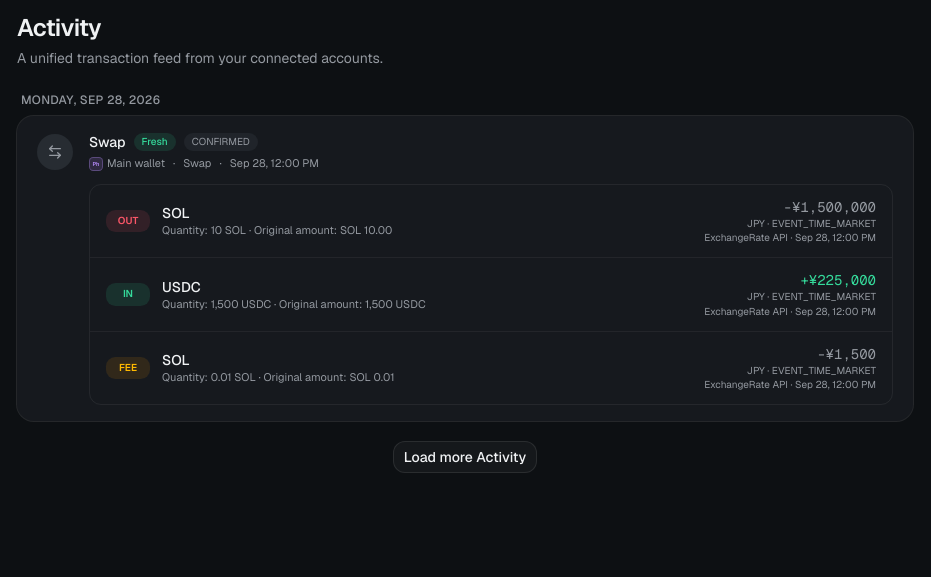
Scenario: ActivityFeed › keeps loaded pages visible and retries a failed older-page request
Expected: the heading "Swap" is shown, [89, 132, 126, 152]
Step 1. Click the button "Load more Activity" → x=465, y=457, box [393, 441, 537, 473]
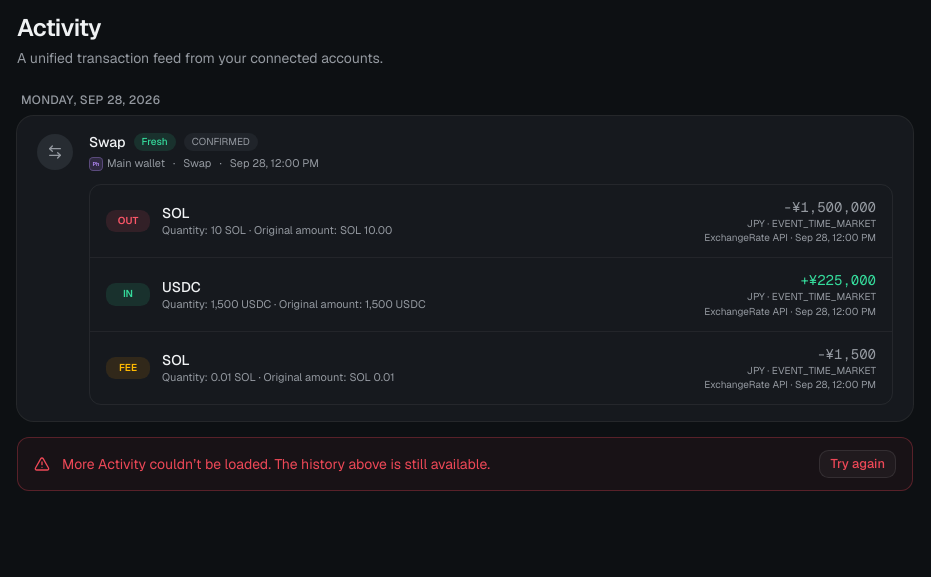
Expected: the heading "Swap" is shown, [89, 132, 126, 152]
Expected: the message shows "More Activity couldn’t be loaded", [62, 455, 490, 473]
Step 2. Click the button "Try again" → x=858, y=464, box [820, 450, 896, 478]
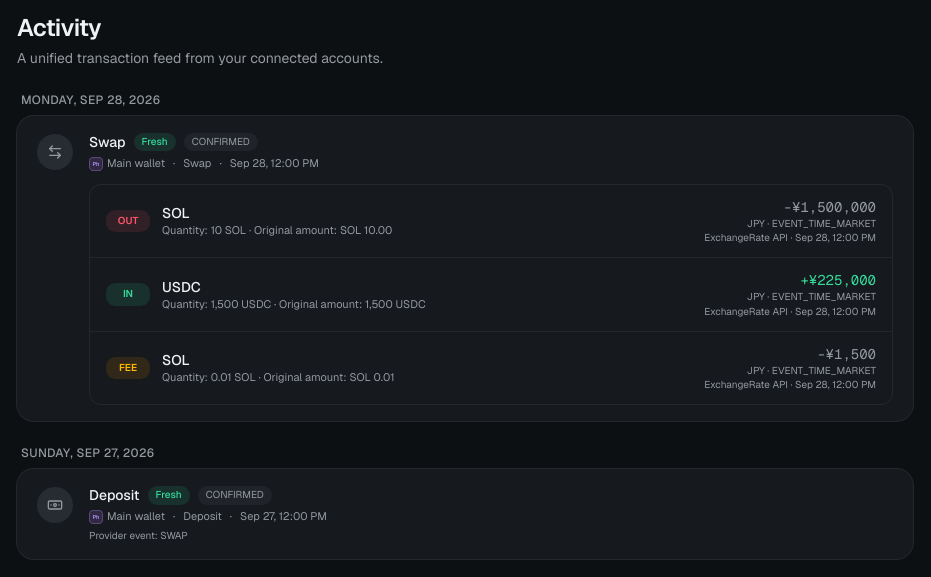
Expected: the heading "Deposit" is shown, [89, 485, 140, 505]
